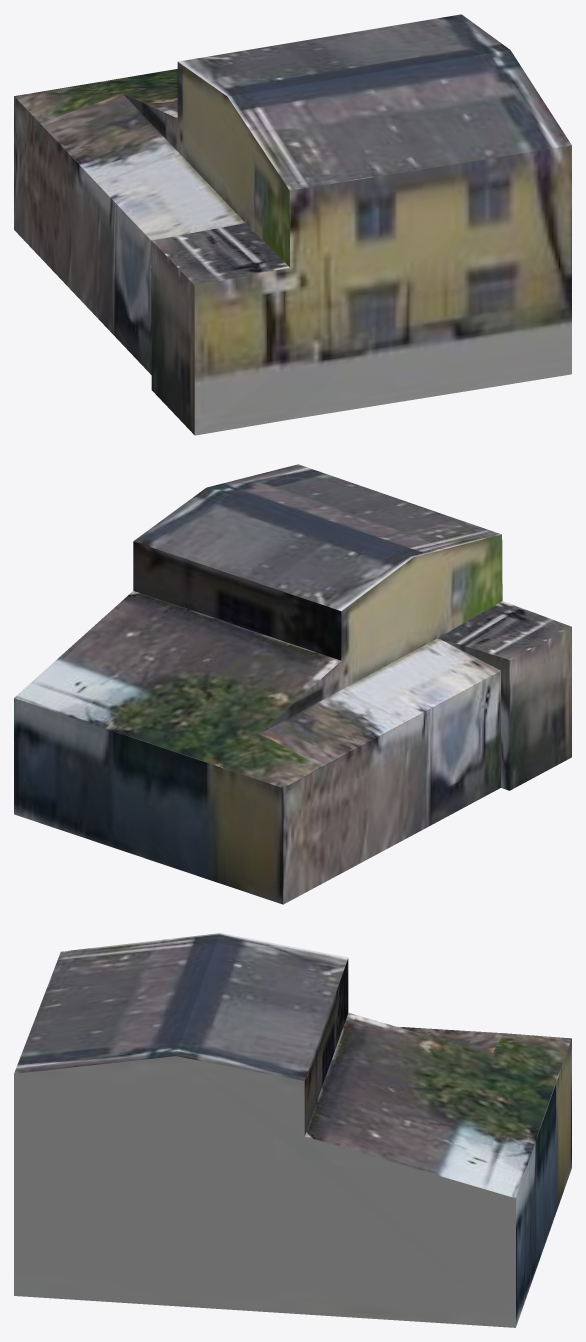
3 views of the same model, one above another, from view 1: azimuth 30°, elevation 25°; view 2: azimuth 150°, elevation 25°; view 3: azimuth 270°, elevation 25° (orthographic). The views are drawn at different scales.
Visible parts, largest first — view 1: B281744039801062A0; view 2: B281744039801062A0; view 3: B281744039801062A0.
Boxes of the visible parts, left/top/right/bottom form: B281744039801062A0: left=14, top=14, right=571, bottom=435; B281744039801062A0: left=14, top=464, right=571, bottom=904; B281744039801062A0: left=14, top=933, right=571, bottom=1327.
Bounding box in the file's own units: 7.98 × 4.76 × 9.63.
Materials: 1 (1 with a texture image).
